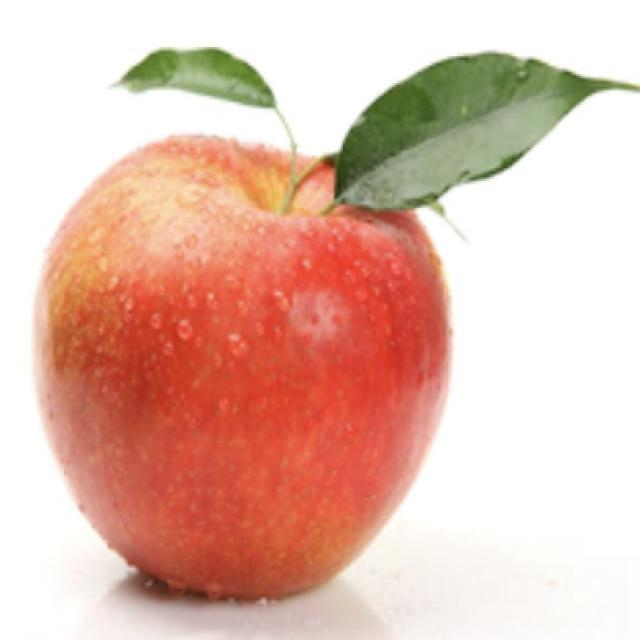Fresh Apple: (42, 133, 455, 602)
